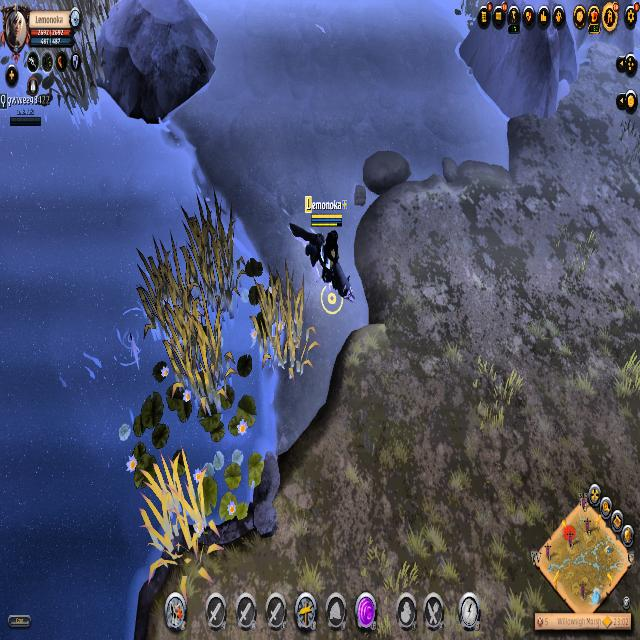fish: (109, 300, 153, 376)
